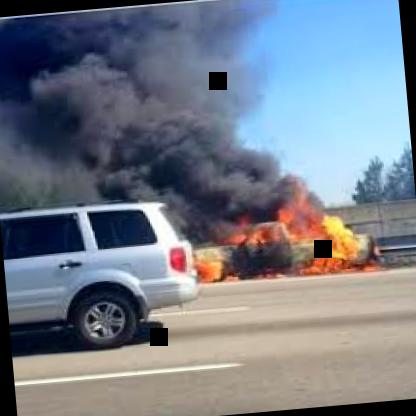fire: (184, 159, 386, 292), (0, 48, 180, 182)
